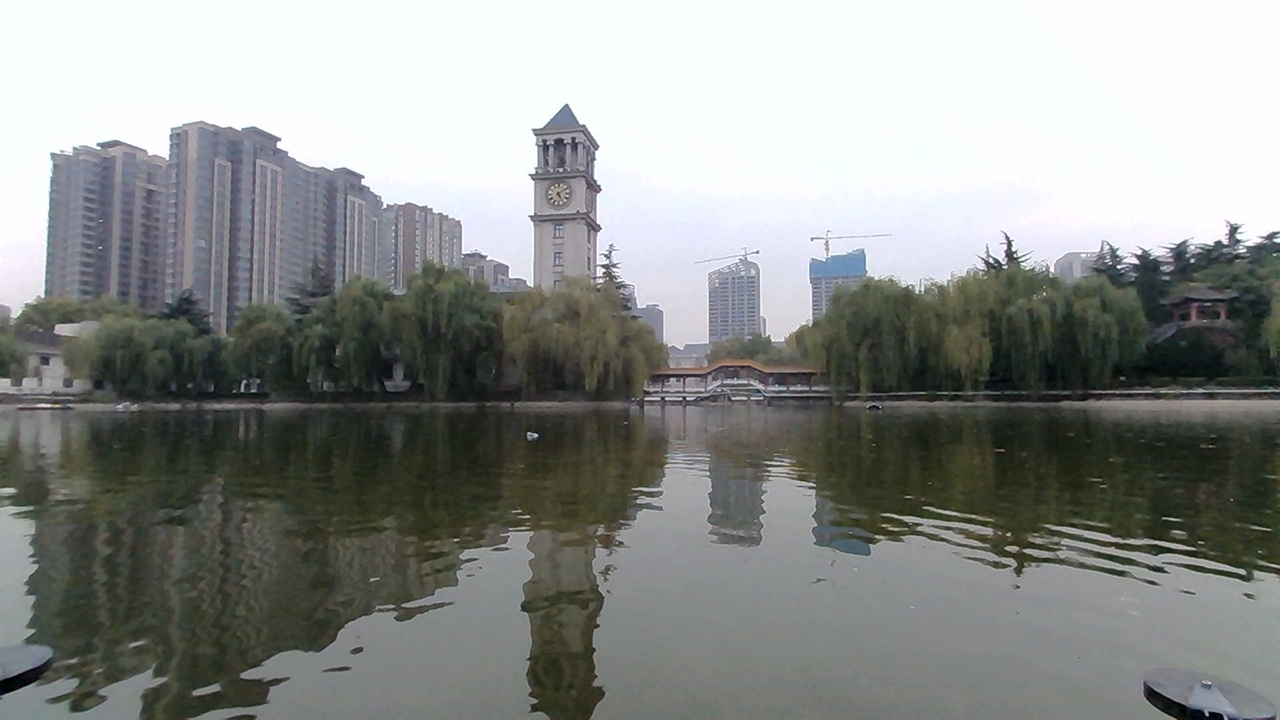bottle: (511, 423, 551, 451)
